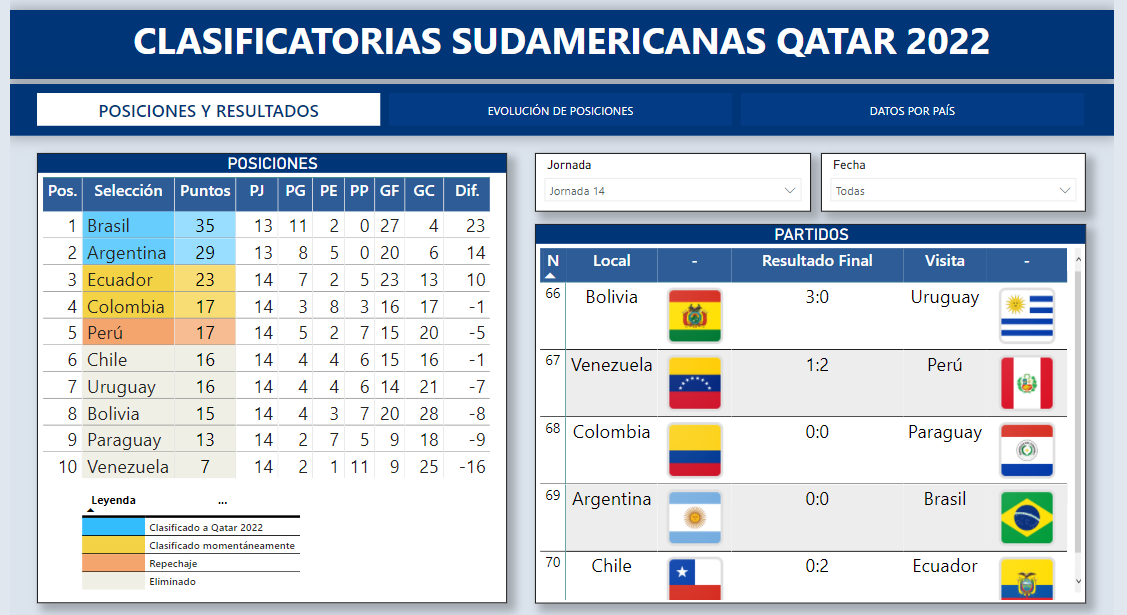

The page's visual inventory and layout, read from the dashboard file:
{"tool":"powerbi","page":{"name":"POSICIONES Y RESULTADOS","canvas":[1280,720],"ordinal":0},"visuals":[{"type":"tableEx","title":"POSICIONES","fields":{"Values":["Posiciones.Pos.","Selecciones.Seleccion","Sum(Posiciones.Puntos)","Sum(Posiciones.PJ)","Sum(Posiciones.PG)","Sum(Posiciones.PE)","Sum(Posiciones.PP)","Sum(Posiciones.GF)","Sum(Posiciones.GC)","Posiciones.Dif."]},"box":[31.1,182.5,544.6,522],"z":0},{"type":"slicer","title":"Jornada","fields":{"Values":["Resultados.Jornada"]},"box":[608.3,182.5,319.7,67.9],"z":1000},{"type":"slicer","title":"Fecha","fields":{"Values":["Resultados.Fecha"]},"box":[940.7,182.5,307,67.9],"z":2000},{"type":"pivotTable","title":"PARTIDOS","fields":{"Values":["DAX_Medidas.Pais Local","DAX_Medidas.Bandera Local","Min(Resultados.Resultado Final)","DAX_Medidas.Pais Visita","DAX_Medidas.Bandera Visita"],"Rows":["Resultados.Index"]},"box":[608.3,264.5,639.4,439.9],"z":3000},{"type":"tableEx","fields":{"Values":["Sum(Posiciones.Value Clasif)","Posiciones.Clasificado o no"]},"box":[77.8,568.6,304.1,145.7],"z":4000},{"type":"textbox","box":[0,16,1280,80],"z":5000},{"type":"actionButton","box":[0,102,1280.5,60],"z":6000},{"type":"pageNavigator","box":[31.6,112.1,1215.8,38.8],"z":7000}]}

Visuals, with their boxes on the page's 1280x720 design canvas (x1, y1, x2, y2). These are canvas units, not pixel positions in the 1127x615 screenshot, which may show the page scaled, cropped or inside an application window:
"POSICIONES" tableEx: bbox(31, 182, 576, 704)
"Jornada" slicer: bbox(608, 182, 928, 250)
"Fecha" slicer: bbox(941, 182, 1248, 250)
"PARTIDOS" pivotTable: bbox(608, 264, 1248, 704)
tableEx - Sum(Posiciones.Value Clasif) x Posiciones.Clasificado o no: bbox(78, 569, 382, 714)
textbox: bbox(0, 16, 1280, 96)
actionButton: bbox(0, 102, 1280, 162)
pageNavigator: bbox(32, 112, 1247, 151)
